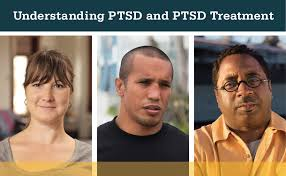person: (212, 45, 273, 129), (114, 45, 175, 128), (23, 48, 75, 124)
